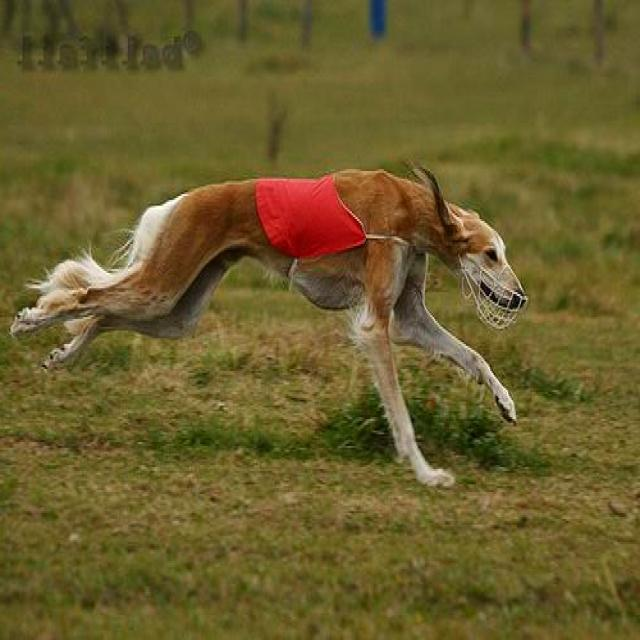saluki: (5, 156, 531, 496)
